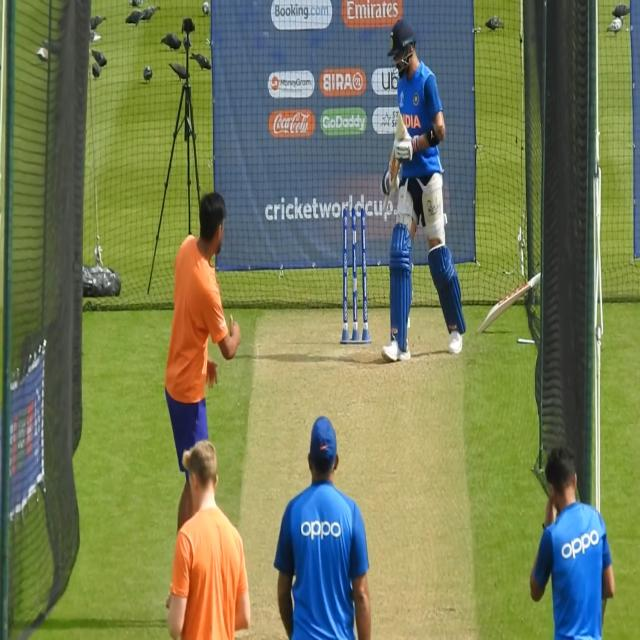stump: (340, 200, 370, 346)
